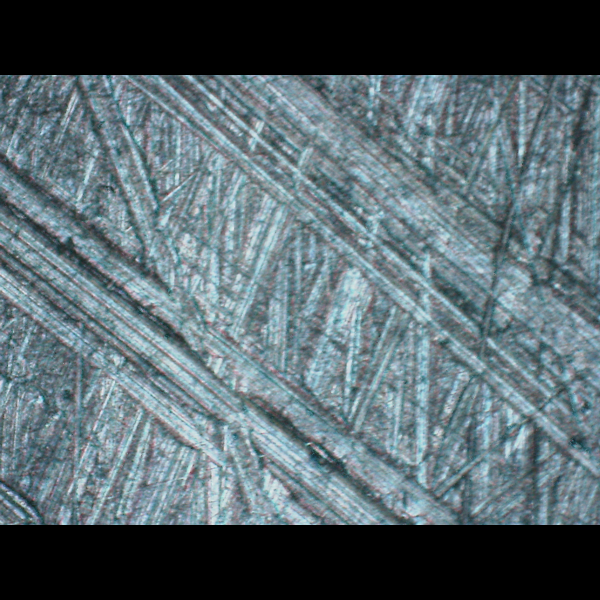d: (117, 74, 599, 479), (0, 158, 465, 524)
